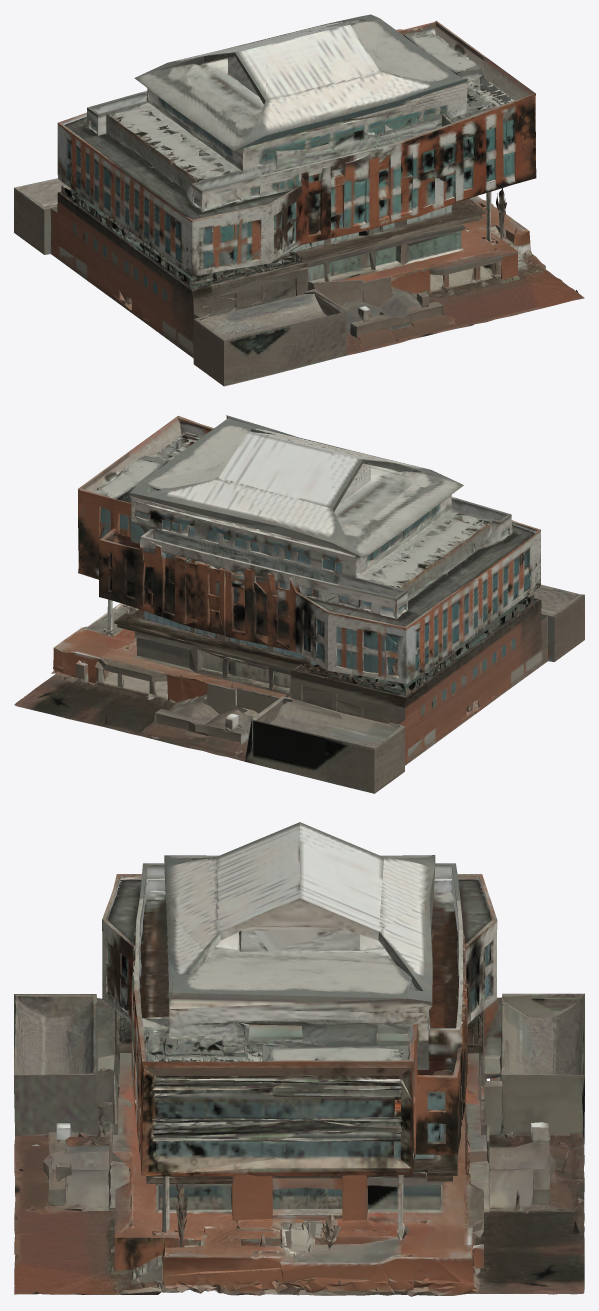
The picture shows the model from 3 angles, top to bottom: view 1: azimuth 30°, elevation 25°; view 2: azimuth 150°, elevation 25°; view 3: azimuth 270°, elevation 25°; orthographic projection. The views are drawn at different scales.
Visible parts, largest first — view 1: Mesh_0; view 2: Mesh_0; view 3: Mesh_0.
Part boxes in pixels (bbox=[...]): Mesh_0: bbox=[14, 14, 584, 386]; Mesh_0: bbox=[14, 415, 584, 793]; Mesh_0: bbox=[14, 822, 584, 1296].
Size of the model in its own units: 1.9 by 1.14 by 1.9.
1 material, 1 textured.
